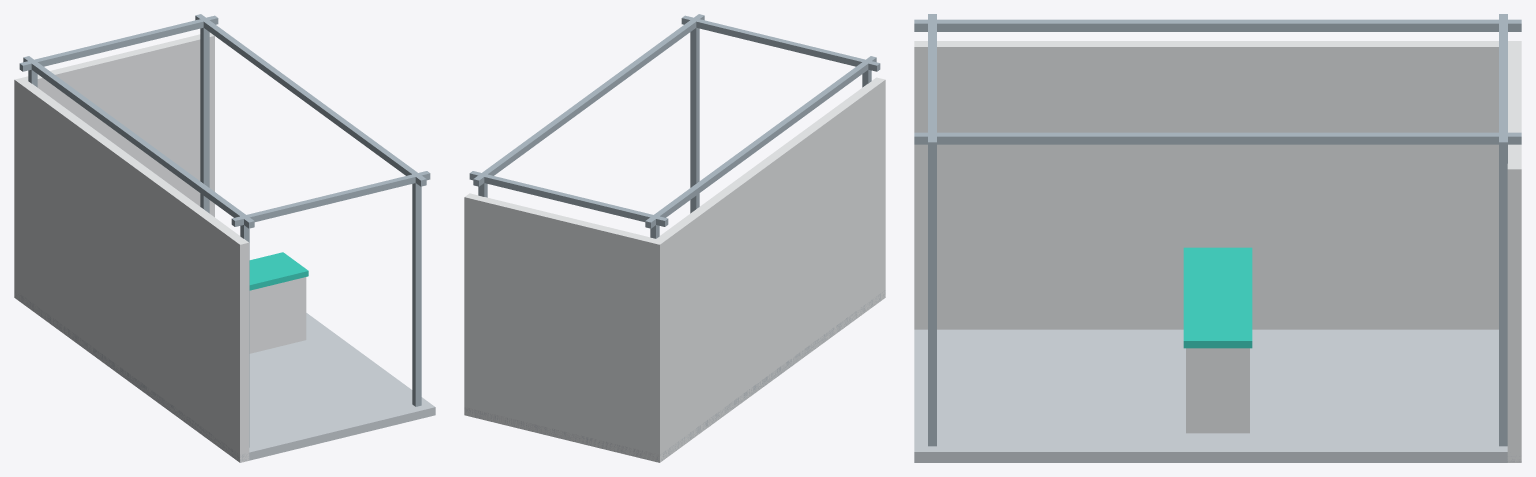
3 views of the same model, side by side, from view 1: azimuth 30°, elevation 25°; view 2: azimuth 150°, elevation 25°; view 3: azimuth 270°, elevation 25° (orthographic). The views are drawn at different scales.
Parts seen in each view (by area): view 1: Exhibition Booth Concept; view 2: Exhibition Booth Concept; view 3: Exhibition Booth Concept.
Boxes of the visible parts, left/top/right/bottom form: Exhibition Booth Concept: left=14, top=14, right=435, bottom=462; Exhibition Booth Concept: left=464, top=14, right=885, bottom=462; Exhibition Booth Concept: left=914, top=14, right=1521, bottom=462.
Bounding box in the file's own units: 3 × 3.49 × 6.
